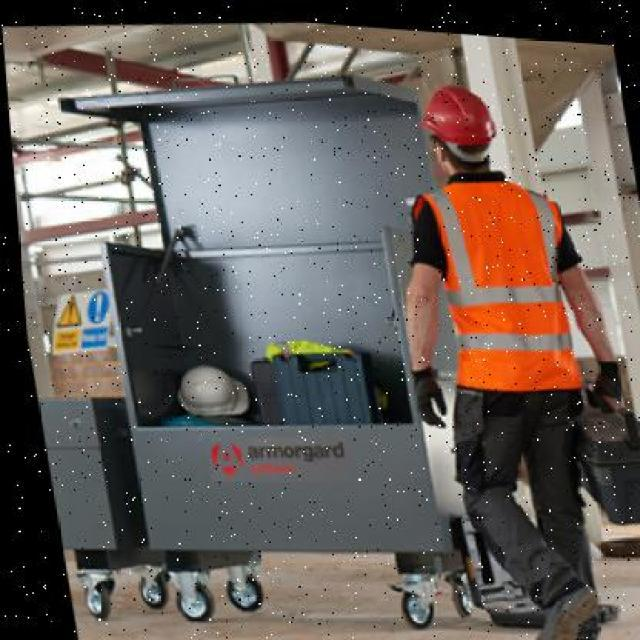helmet: (408, 68, 506, 156)
vest: (413, 148, 582, 394)
